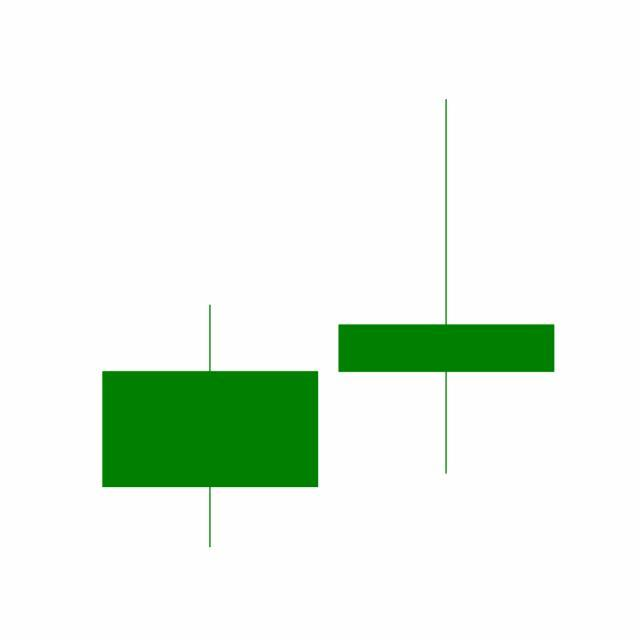Spinning Top: (328, 95, 566, 479)
